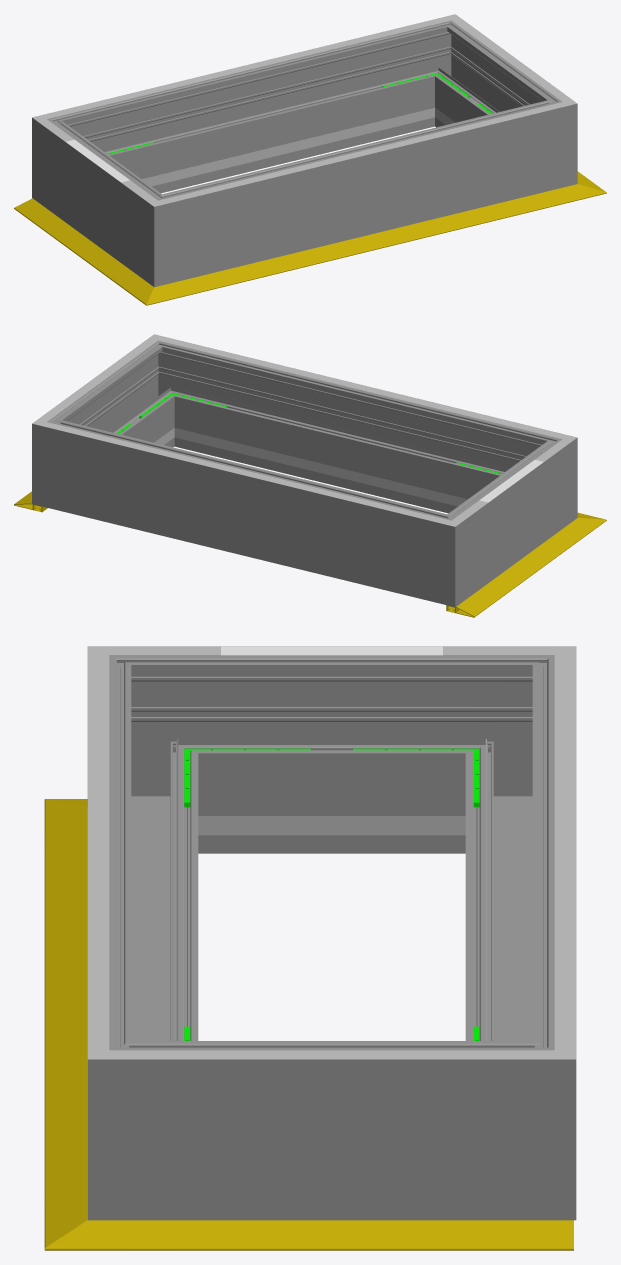
3 renders of one model, top to bottom at view 1: azimuth 30°, elevation 25°; view 2: azimuth 150°, elevation 25°; view 3: azimuth 270°, elevation 25°, orthographic. The views are drawn at different scales.
Visible parts, largest first — view 1: 3DGeom-277, 3DGeom-299, 3DGeom-271, 3DGeom-28, 3DGeom-291, 3DGeom-269, 3DGeom-285, 3DGeom-298, 3DGeom-279, 3DGeom-38, 3DGeom-245, 3DGeom-317 (+10 smaller); view 2: 3DGeom-299, 3DGeom-277, 3DGeom-279, 3DGeom-285, 3DGeom-269, 3DGeom-291, 3DGeom-298, 3DGeom-271, 3DGeom-38, 3DGeom-240, 3DGeom-317, 3DGeom-305 (+8 smaller); view 3: 3DGeom-269, 3DGeom-298, 3DGeom-285, 3DGeom-291, 3DGeom-277, 3DGeom-299, 3DGeom-271, 3DGeom-279, 3DGeom-28, 3DGeom-30, 3DGeom-305, 3DGeom-317 (+10 smaller).
Part boxes in pixels (x1,y1,x2,y2): 3DGeom-277: (92, 28, 425, 193); 3DGeom-299: (201, 109, 519, 272); 3DGeom-271: (121, 178, 211, 287); 3DGeom-28: (193, 193, 549, 291); 3DGeom-291: (509, 79, 577, 197); 3DGeom-269: (65, 137, 139, 262); 3DGeom-285: (403, 15, 487, 128); 3DGeom-298: (440, 39, 543, 126); 3DGeom-279: (32, 106, 117, 221); 3DGeom-38: (14, 198, 131, 280); 3DGeom-245: (163, 121, 379, 183); 3DGeom-317: (207, 114, 519, 192); 3DGeom-299: (184, 348, 518, 513); 3DGeom-277: (89, 429, 408, 593); 3DGeom-279: (398, 498, 488, 607); 3DGeom-285: (32, 400, 99, 517); 3DGeom-269: (470, 457, 544, 582); 3DGeom-291: (122, 334, 209, 448); 3DGeom-298: (66, 359, 168, 446); 3DGeom-271: (492, 425, 577, 541); 3DGeom-38: (446, 534, 573, 617); 3DGeom-240: (230, 441, 446, 503); 3DGeom-317: (207, 348, 519, 427); 3DGeom-305: (90, 434, 402, 512); 3DGeom-269: (220, 646, 443, 853); 3DGeom-298: (220, 1041, 443, 1220); 3DGeom-285: (443, 1003, 576, 1220); 3DGeom-291: (87, 1003, 220, 1220); 3DGeom-277: (465, 702, 576, 1040); 3DGeom-299: (87, 702, 198, 1040); 3DGeom-271: (87, 646, 220, 853); 3DGeom-279: (443, 646, 576, 853); 3DGeom-28: (44, 845, 87, 1192); 3DGeom-30: (177, 1220, 573, 1250); 3DGeom-305: (554, 702, 575, 1003); 3DGeom-317: (88, 702, 109, 1003).
Size of the model in its own units: 1.22 by 0.2195 by 0.6096.
